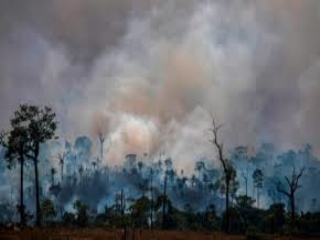smoke: (84, 42, 254, 194), (56, 199, 82, 220)
